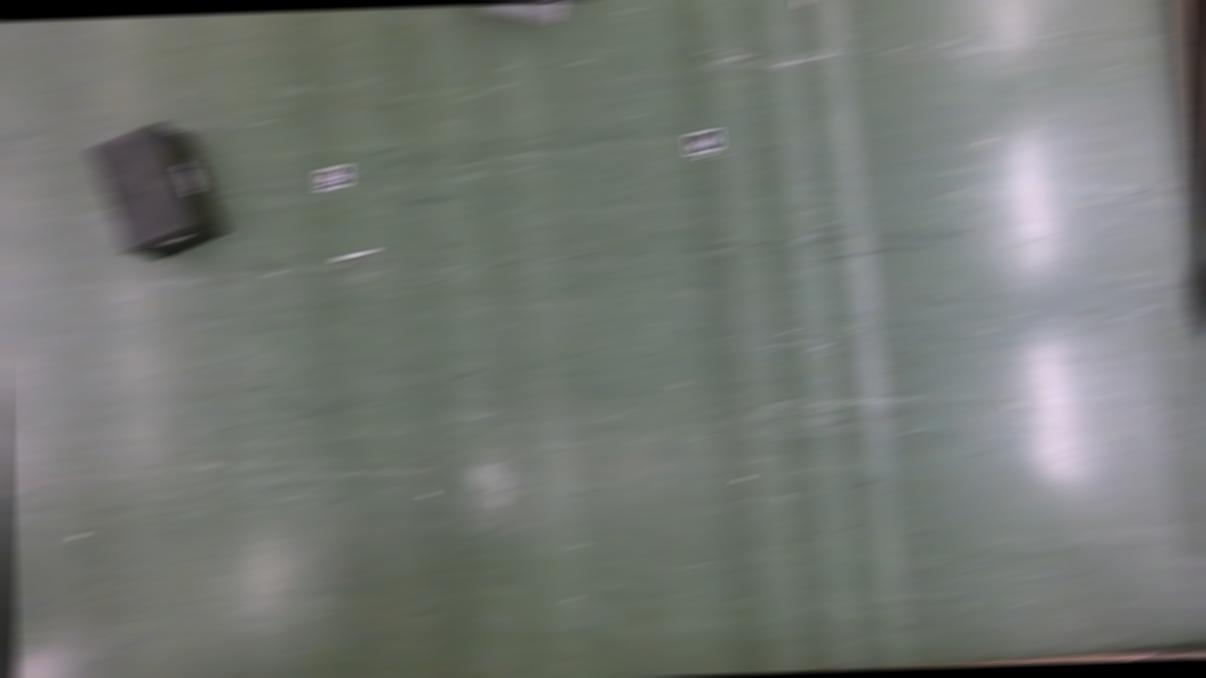probes: (335, 245, 378, 265), (790, 0, 814, 4)
rako: (88, 122, 228, 264), (468, 2, 574, 28)
